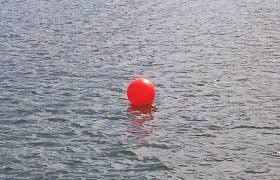buoy: (126, 78, 157, 108)
